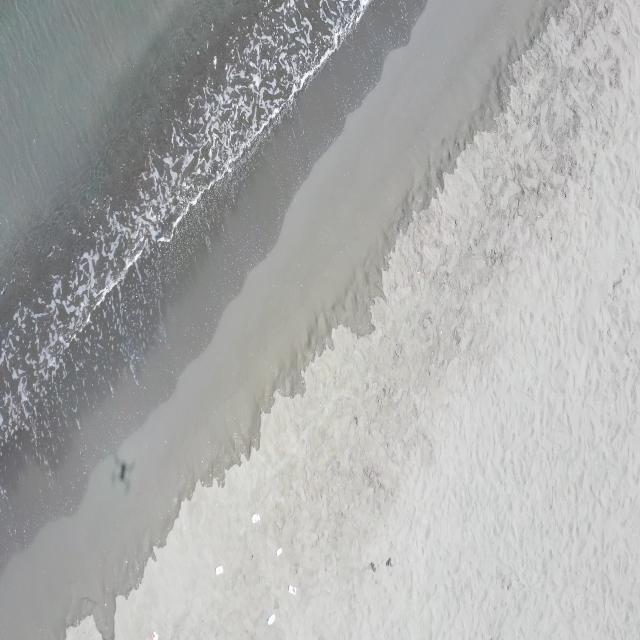retort-pouch: (266, 612, 277, 627), (251, 511, 262, 525), (287, 583, 297, 596), (214, 564, 223, 576), (275, 546, 284, 558), (151, 632, 158, 639)
